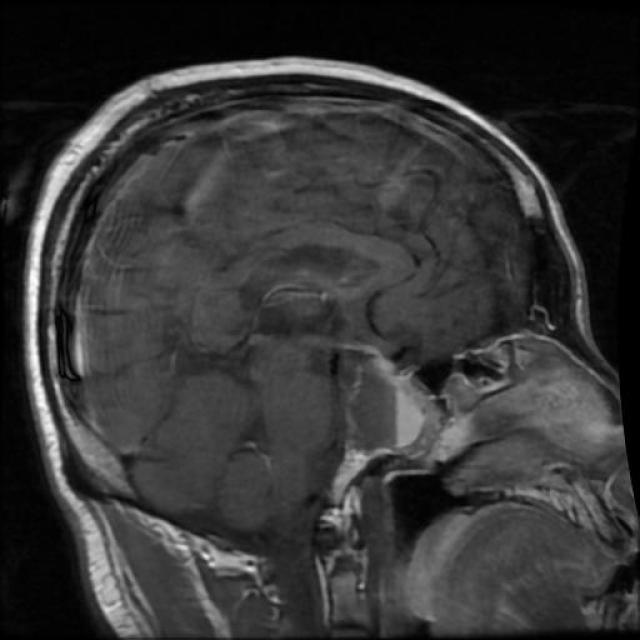pituitary: (324, 344, 426, 502)
